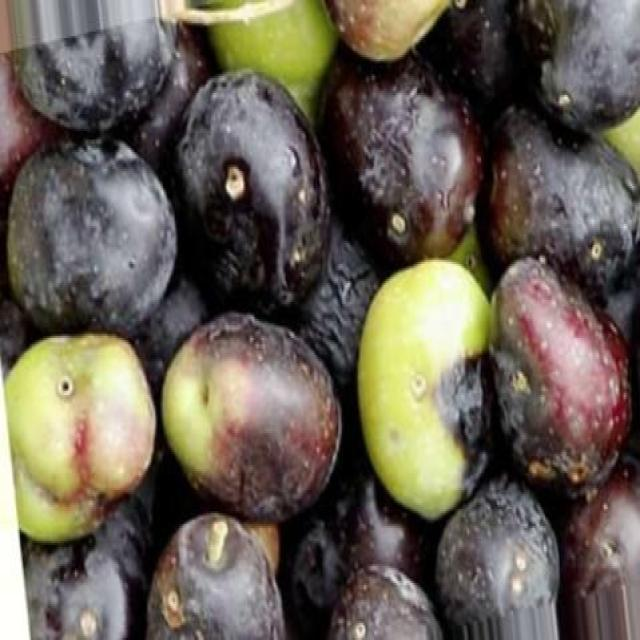Anthracnose: (175, 71, 329, 312), (162, 312, 340, 516), (492, 258, 630, 492), (356, 258, 491, 497), (323, 54, 481, 256), (5, 334, 155, 540), (147, 513, 286, 638)
